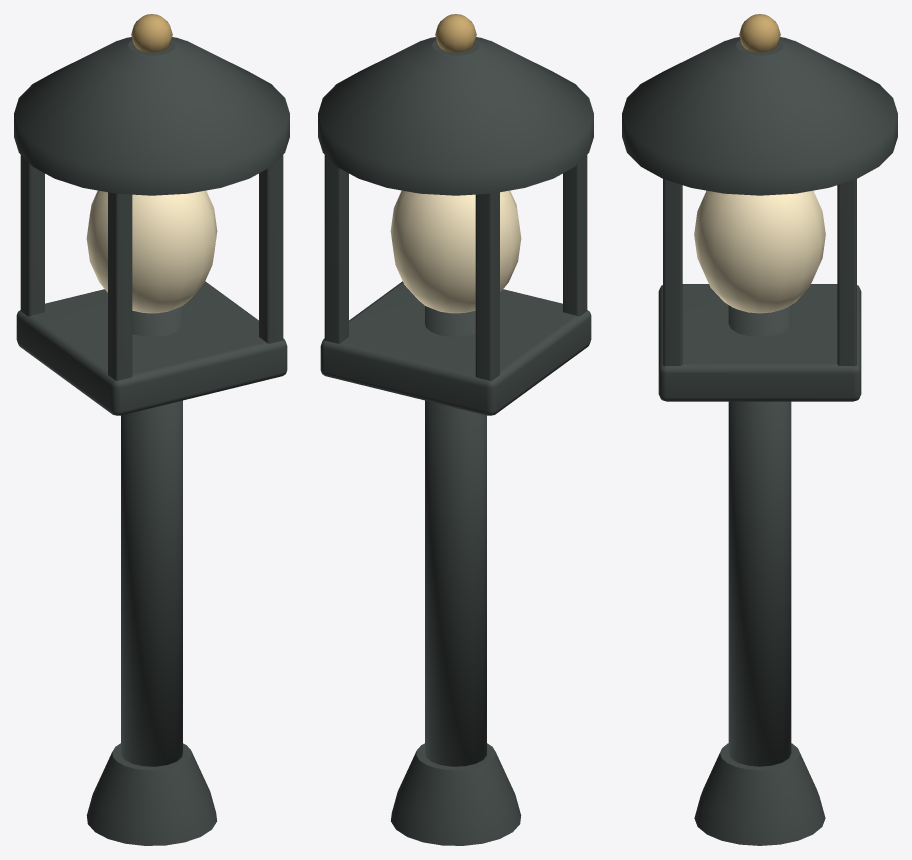
File: light.path-new.glb
3 views of the same model, side by side, from view 1: azimuth 30°, elevation 25°; view 2: azimuth 150°, elevation 25°; view 3: azimuth 270°, elevation 25° (orthographic).
Visible parts, largest first — view 1: Flared cast foot; view 2: Flared cast foot; view 3: Flared cast foot.
Part boxes in pixels (box(x1,y1,x2,y2)): Flared cast foot: box(14, 14, 289, 845); Flared cast foot: box(318, 14, 593, 845); Flared cast foot: box(622, 14, 897, 845).
Bounding box in the file's own units: 0.4624 × 1.49 × 0.4624.
